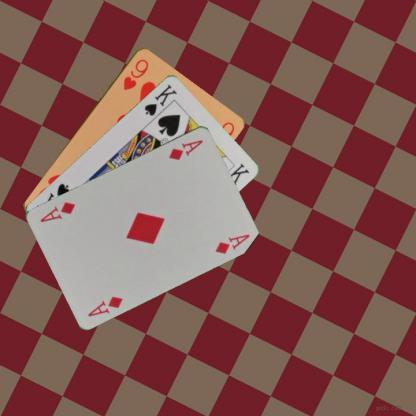9h: (120, 56, 150, 91)
Ad: (166, 136, 204, 162), (86, 293, 124, 318)
Ks: (142, 81, 178, 117)
